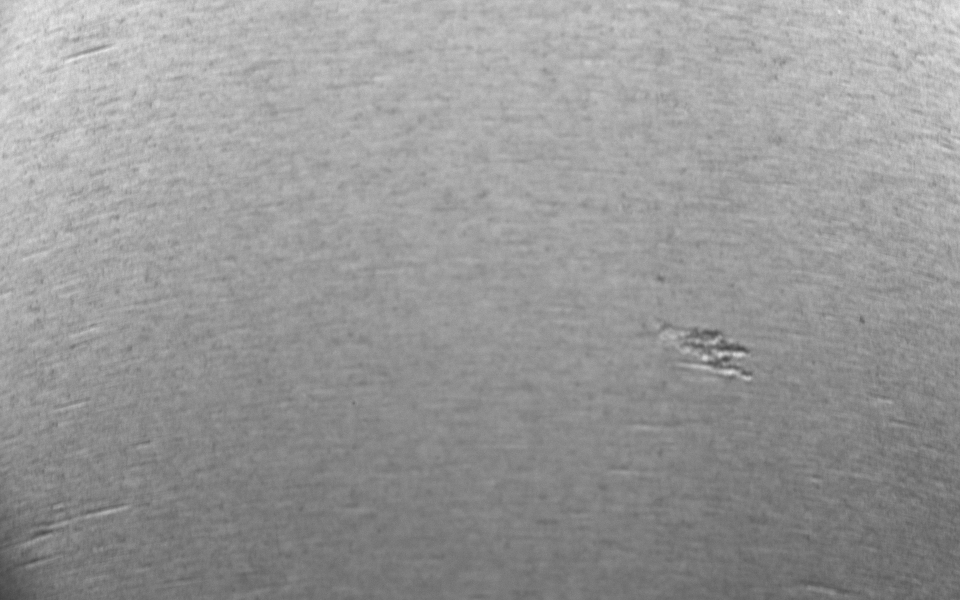scuffing: (633, 265, 793, 425)
